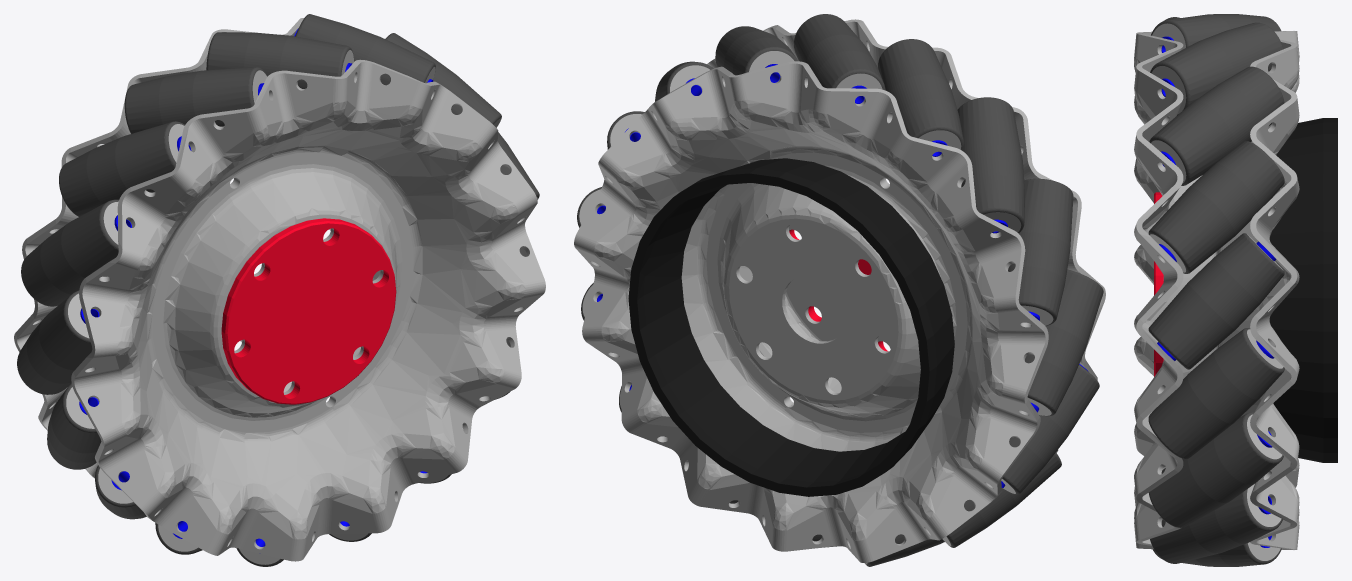
The model's file is front_right.dae.
The picture shows the model from 3 angles, left to right: view 1: azimuth 30°, elevation 25°; view 2: azimuth 150°, elevation 25°; view 3: azimuth 270°, elevation 25°; orthographic projection.
Parts seen in each view (by area): view 1: node_g0_1, node_g0_0, node_g4_0, node_g3_2, node_g3_1, node_g0_3, node_g0_2, node_g3_0, node_g2_0; view 2: node_g0_2, node_g0_3, node_g1_0, node_g3_1, node_g3_2, node_g0_1, node_g0_0, node_g3_0, node_g2_0; view 3: node_g3_2, node_g3_0, node_g1_0, node_g0_0, node_g3_1, node_g0_1, node_g0_2, node_g0_3, node_g2_0, node_g4_0.
Part boxes in pixels (box(x1,y1,x2,y2)): node_g0_1: box(35, 32, 537, 564); node_g0_0: box(76, 62, 545, 561); node_g4_0: box(221, 218, 396, 404); node_g3_2: box(21, 32, 527, 306); node_g3_1: box(17, 14, 435, 566); node_g0_3: box(14, 18, 380, 478); node_g0_2: box(17, 28, 298, 477); node_g3_0: box(155, 132, 539, 554); node_g2_0: box(79, 28, 433, 546); node_g0_2: box(575, 63, 1045, 561); node_g0_3: box(574, 61, 1048, 562); node_g1_0: box(628, 158, 954, 496); node_g3_1: box(715, 26, 1103, 547); node_g3_2: box(577, 14, 1073, 326); node_g0_1: box(579, 19, 1105, 564); node_g0_0: box(707, 21, 1102, 367); node_g3_0: box(581, 111, 944, 566); node_g2_0: box(597, 64, 1088, 487); node_g3_2: box(1148, 17, 1284, 458); node_g3_0: box(1148, 233, 1284, 566); node_g1_0: box(1269, 118, 1337, 462); node_g0_0: box(1134, 32, 1182, 549); node_g3_1: box(1149, 14, 1284, 185); node_g0_1: box(1134, 23, 1291, 560); node_g0_2: box(1251, 31, 1299, 549); node_g0_3: box(1216, 31, 1299, 549); node_g2_0: box(1157, 36, 1276, 547); node_g4_0: box(1154, 192, 1163, 376).
Size of the model in its own units: 0.1523 by 0.056 by 0.1523.
